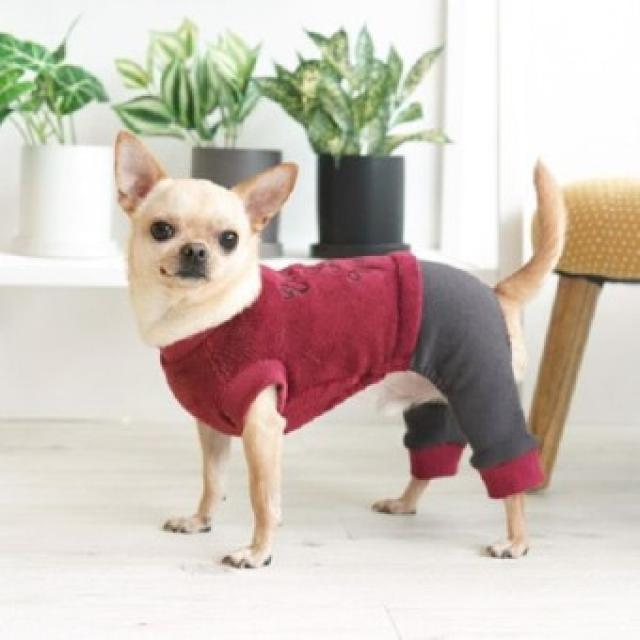cloth: (160, 252, 542, 498)
